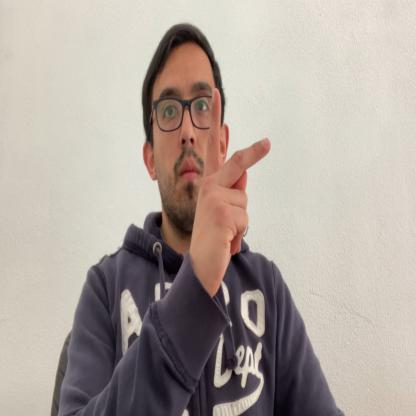P: (194, 88, 270, 285)
